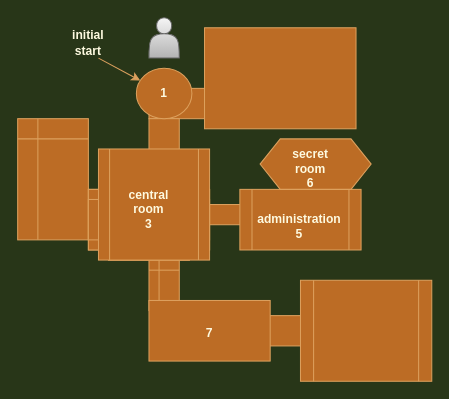
This 449x399 diagram has some shape labels left out. Here are the shapes that lost their labels. From the top down, the centre of each, then its label:
At point (280, 78): "stage room 2".
At point (52, 179): "Bathroom 4".
At point (365, 330): "Monster's location 8".
